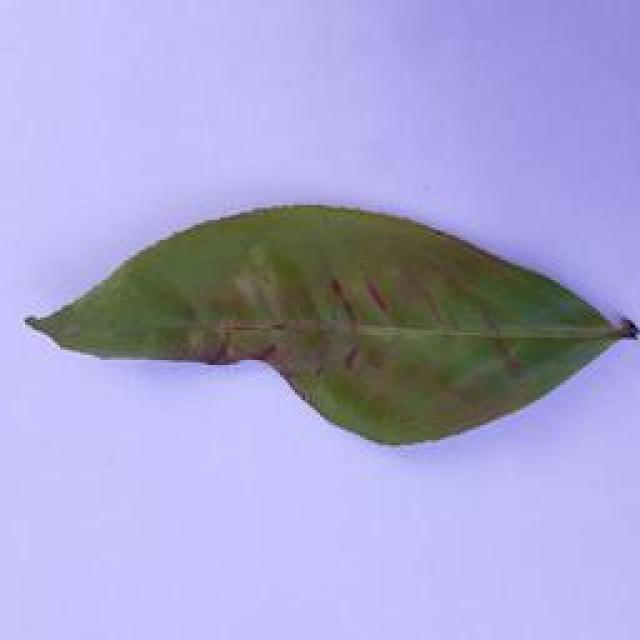Red Leaf Spot: (6, 192, 640, 470)
